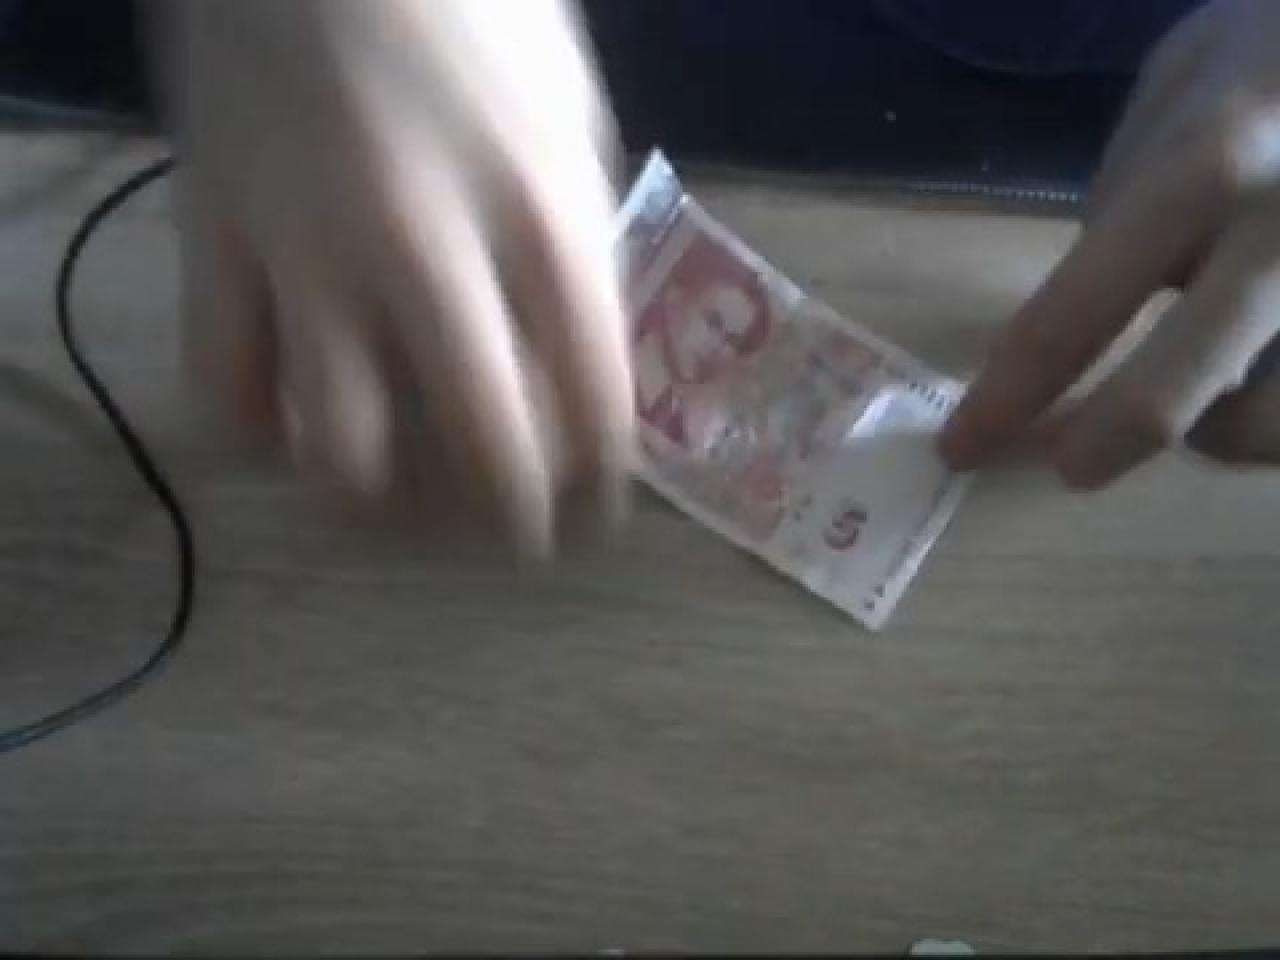5leva: (614, 157, 979, 634)
